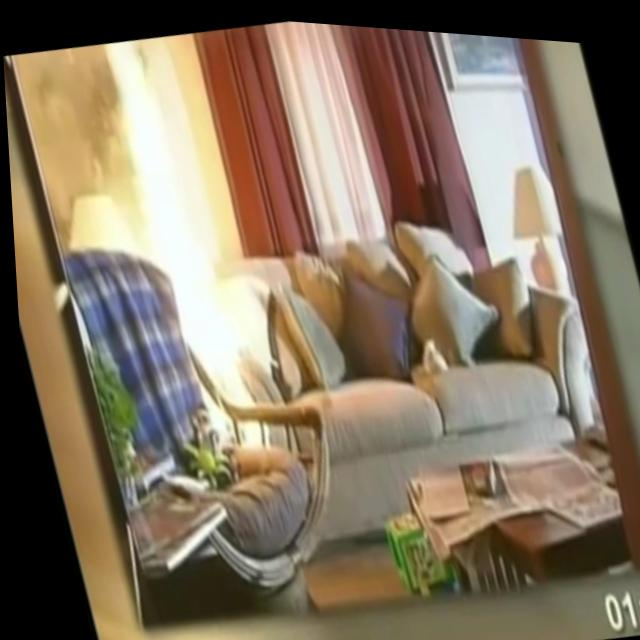fire: (99, 42, 265, 454)
